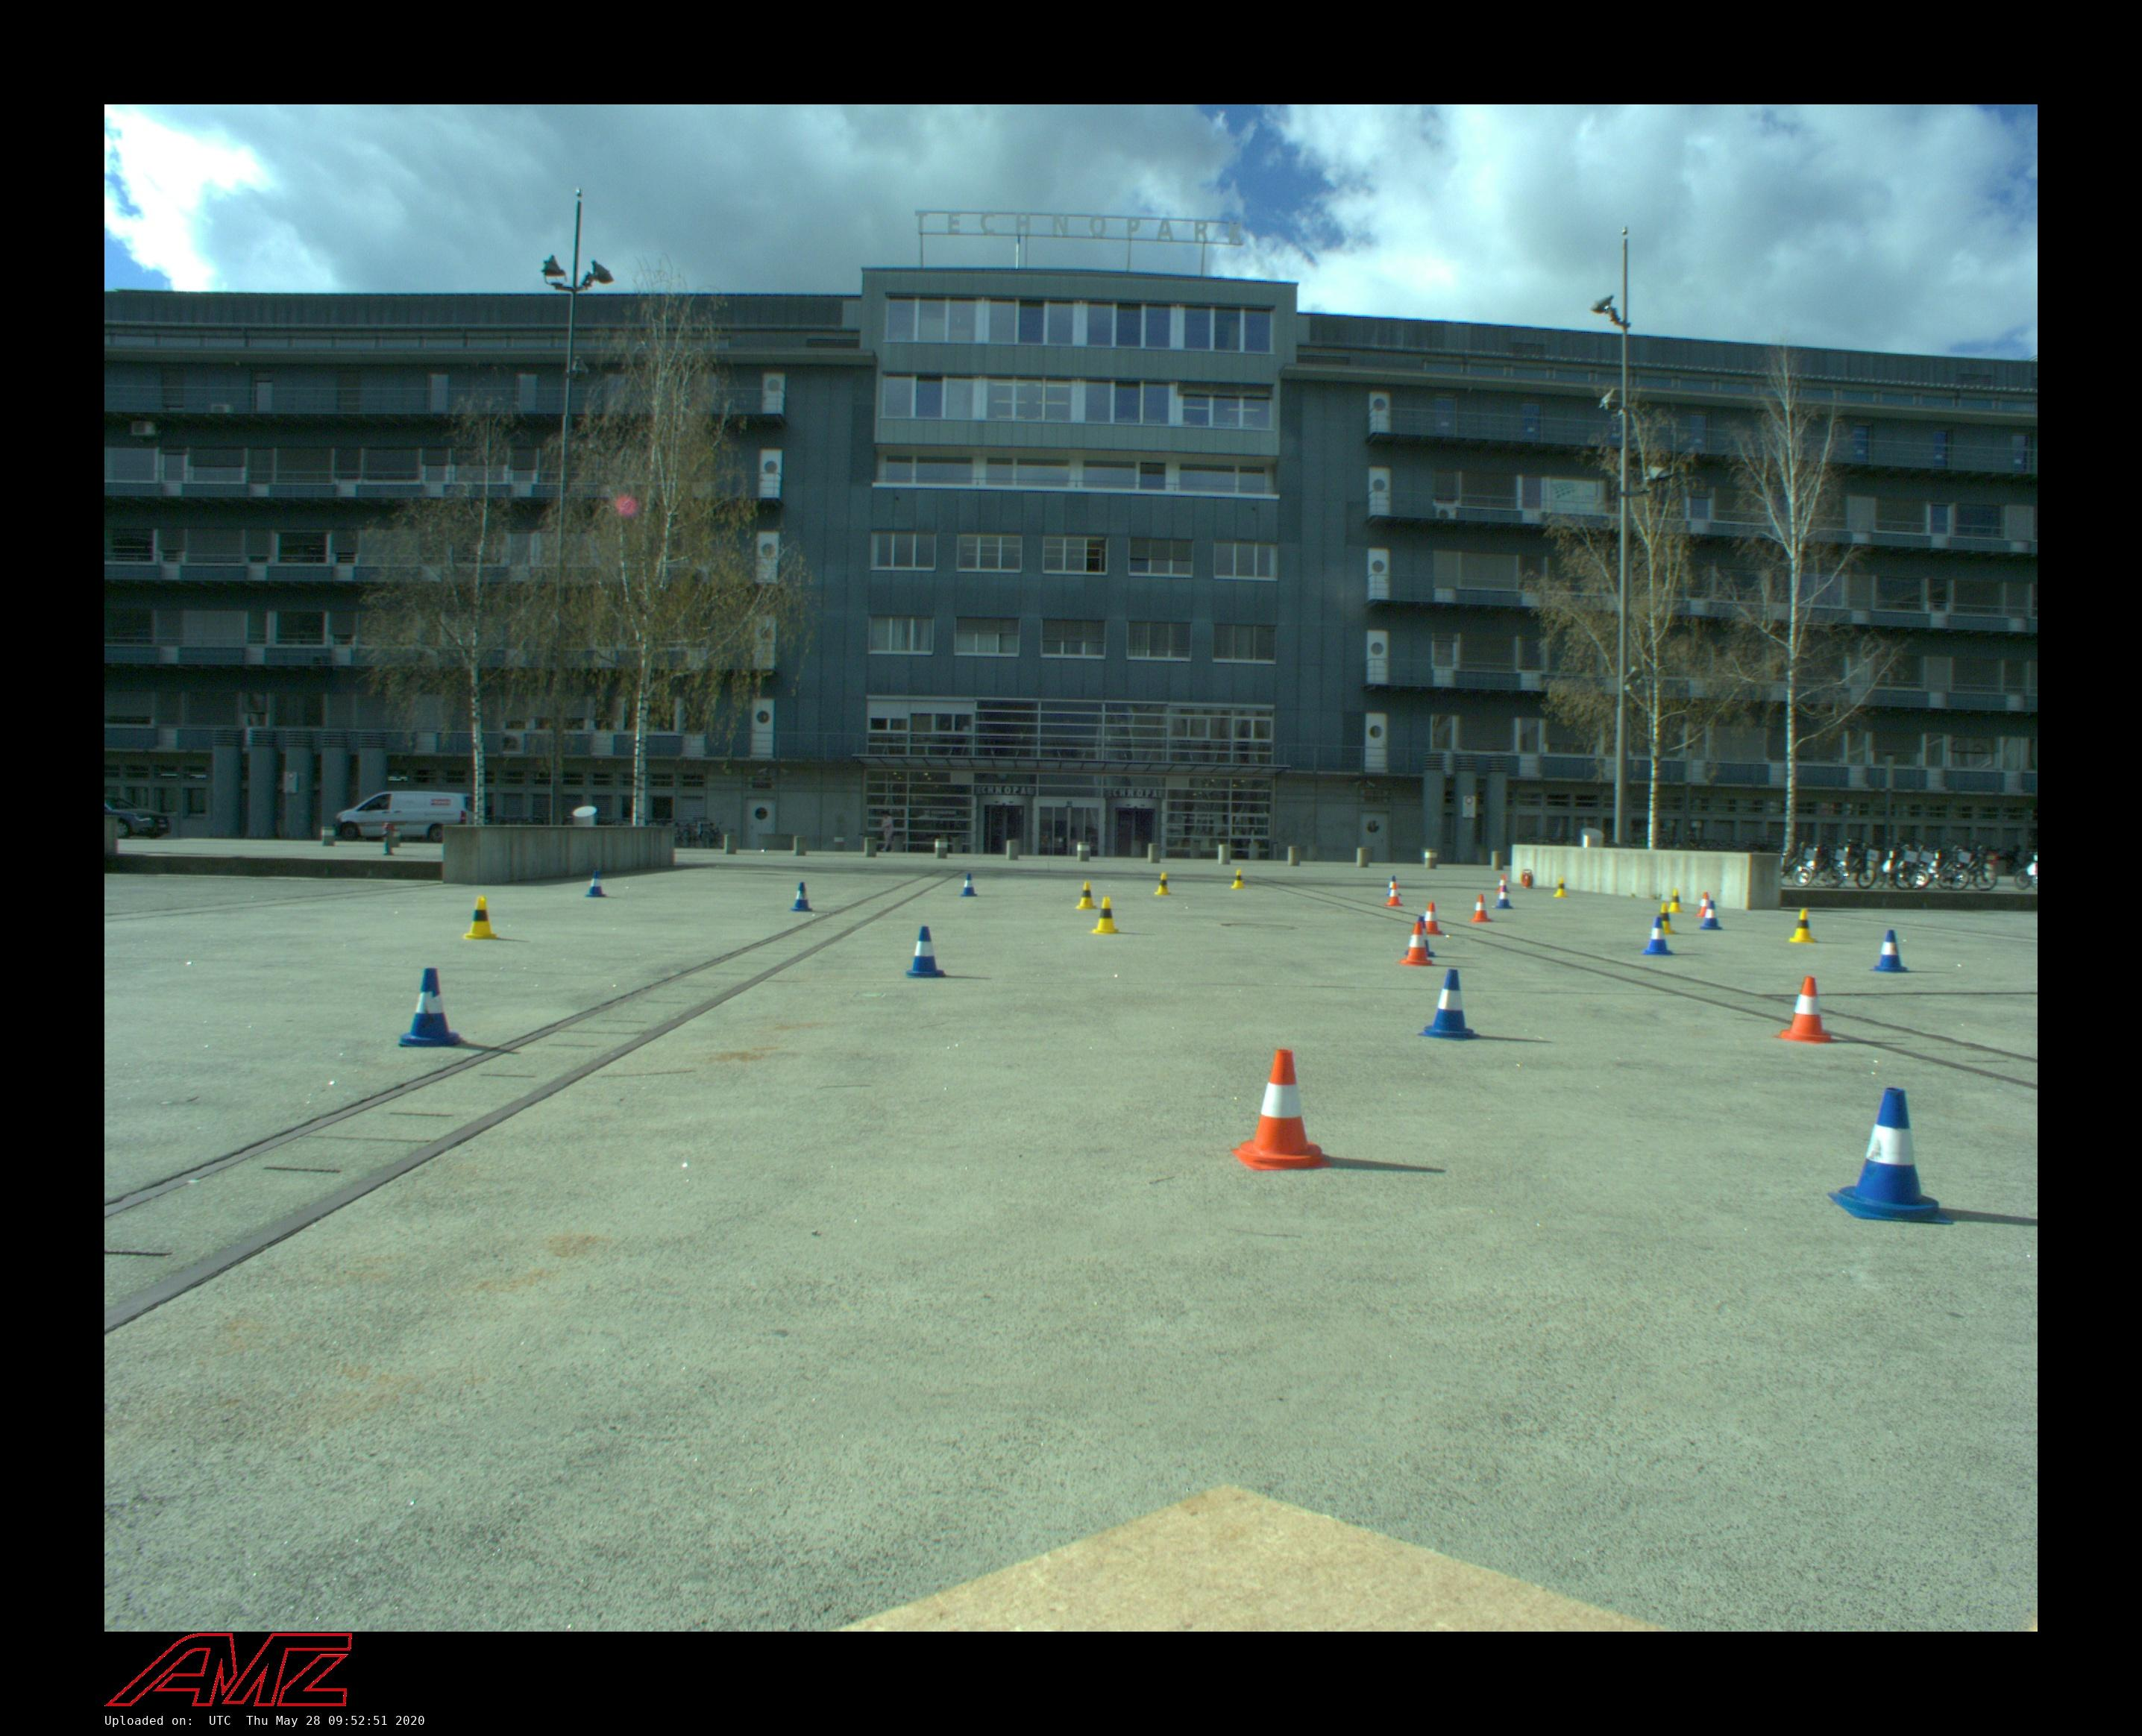blue_cone: (1825, 1084, 1954, 1226), (399, 967, 466, 1047), (1417, 967, 1479, 1042), (905, 925, 946, 978), (1869, 928, 1908, 974), (1642, 918, 1672, 957), (1699, 900, 1724, 930), (790, 882, 811, 911), (585, 870, 606, 896), (1495, 884, 1513, 909), (960, 873, 978, 896), (1385, 875, 1401, 896)
orange_cone: (1231, 1049, 1332, 1173), (1772, 976, 1835, 1043), (1396, 921, 1435, 965), (1469, 893, 1494, 923), (1424, 902, 1442, 934), (1384, 882, 1403, 905), (1694, 891, 1708, 916), (1495, 873, 1509, 893)
yellow_cone: (462, 896, 500, 939), (1091, 896, 1120, 934), (1789, 909, 1818, 944), (1075, 882, 1097, 911), (1660, 903, 1678, 934), (1667, 887, 1685, 912), (1155, 872, 1171, 896), (1552, 877, 1570, 898), (1231, 870, 1246, 889)
